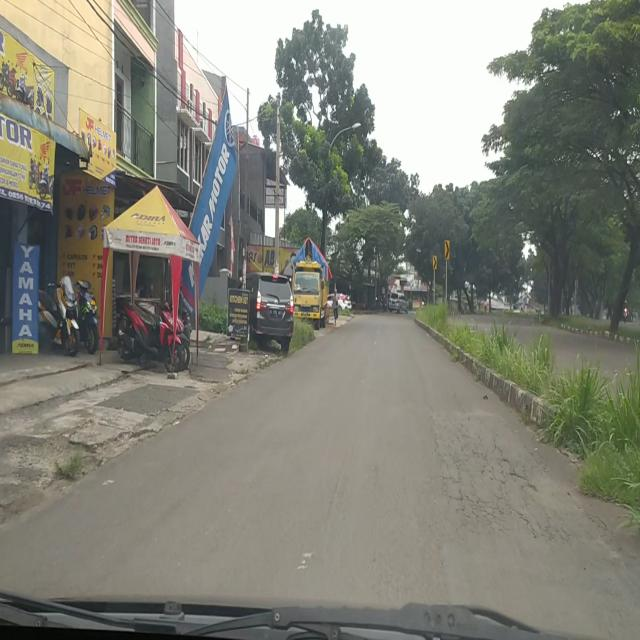Drain Hole: (440, 418, 573, 550)
